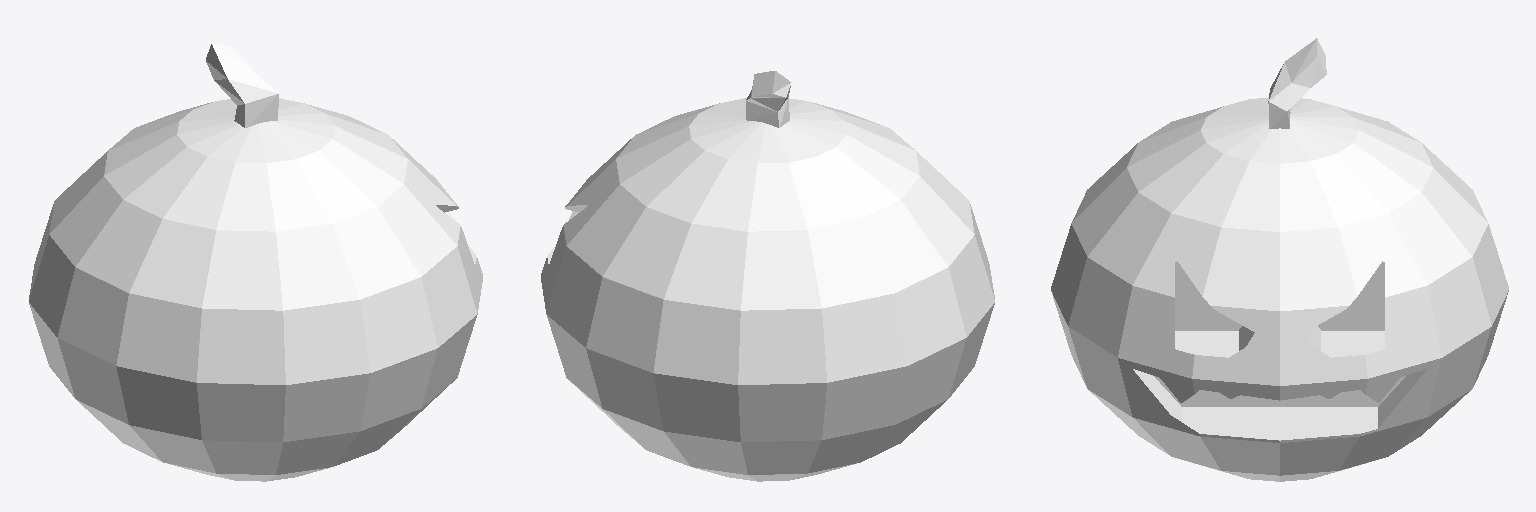
Rendered from wtf.obj.
3 renders of one model, left to right at view 1: azimuth 30°, elevation 25°; view 2: azimuth 150°, elevation 25°; view 3: azimuth 270°, elevation 25°, orthographic.
Visible parts, largest first — view 1: Null; view 2: Null; view 3: Null.
Boxes of the visible parts, x1,y1,x2,y2 form: Null: [29, 43, 482, 481]; Null: [541, 71, 994, 481]; Null: [1051, 38, 1508, 481].
Size of the model in its own units: 24.16 by 23.86 by 24.16.